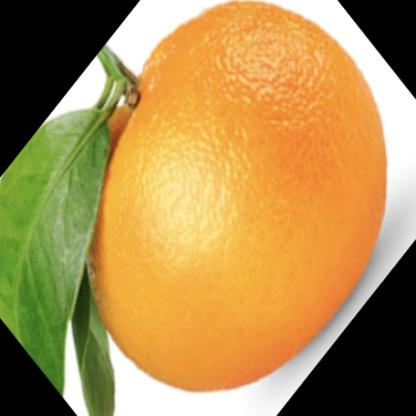fresh: (79, 2, 388, 395)
